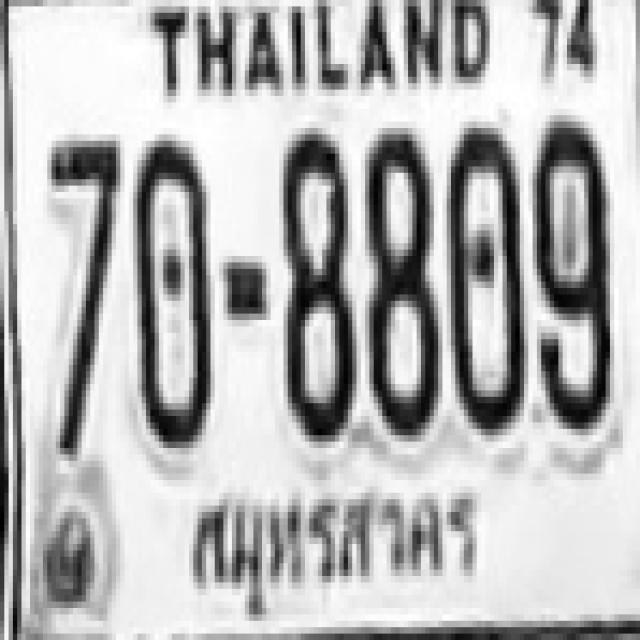0: (135, 134, 213, 448), (446, 122, 520, 428)
7: (49, 134, 122, 448)
8: (282, 128, 354, 435), (365, 122, 434, 435)
9: (533, 115, 610, 429)
SKN: (171, 476, 486, 621)
